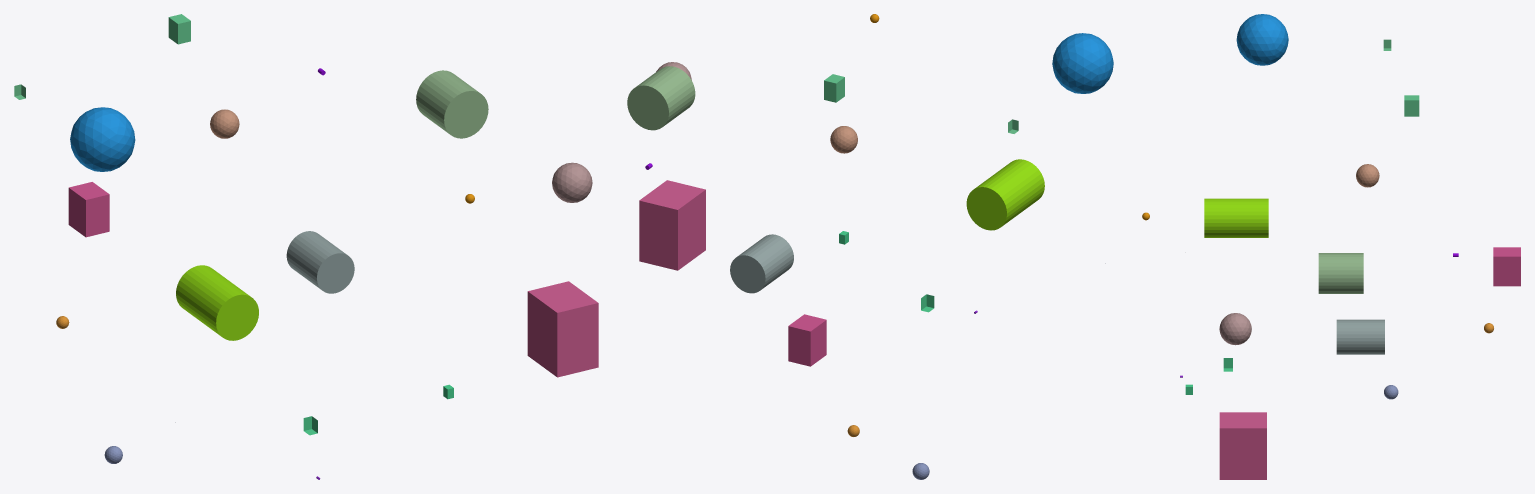
The model's file is scene_trimesh.glb.
3 renders of one model, left to right at view 1: azimuth 30°, elevation 25°; view 2: azimuth 150°, elevation 25°; view 3: azimuth 270°, elevation 25°, orthographic. The views are drawn at different scales.
Visible parts, largest first — view 1: world; view 2: world; view 3: world.
Part boxes in pixels (x1,y1,x2,y2): world: (14, 14, 598, 479); world: (627, 14, 1113, 479); world: (1142, 14, 1520, 479).
Bounding box in the file's own units: 4.3 × 3.58 × 3.54.
